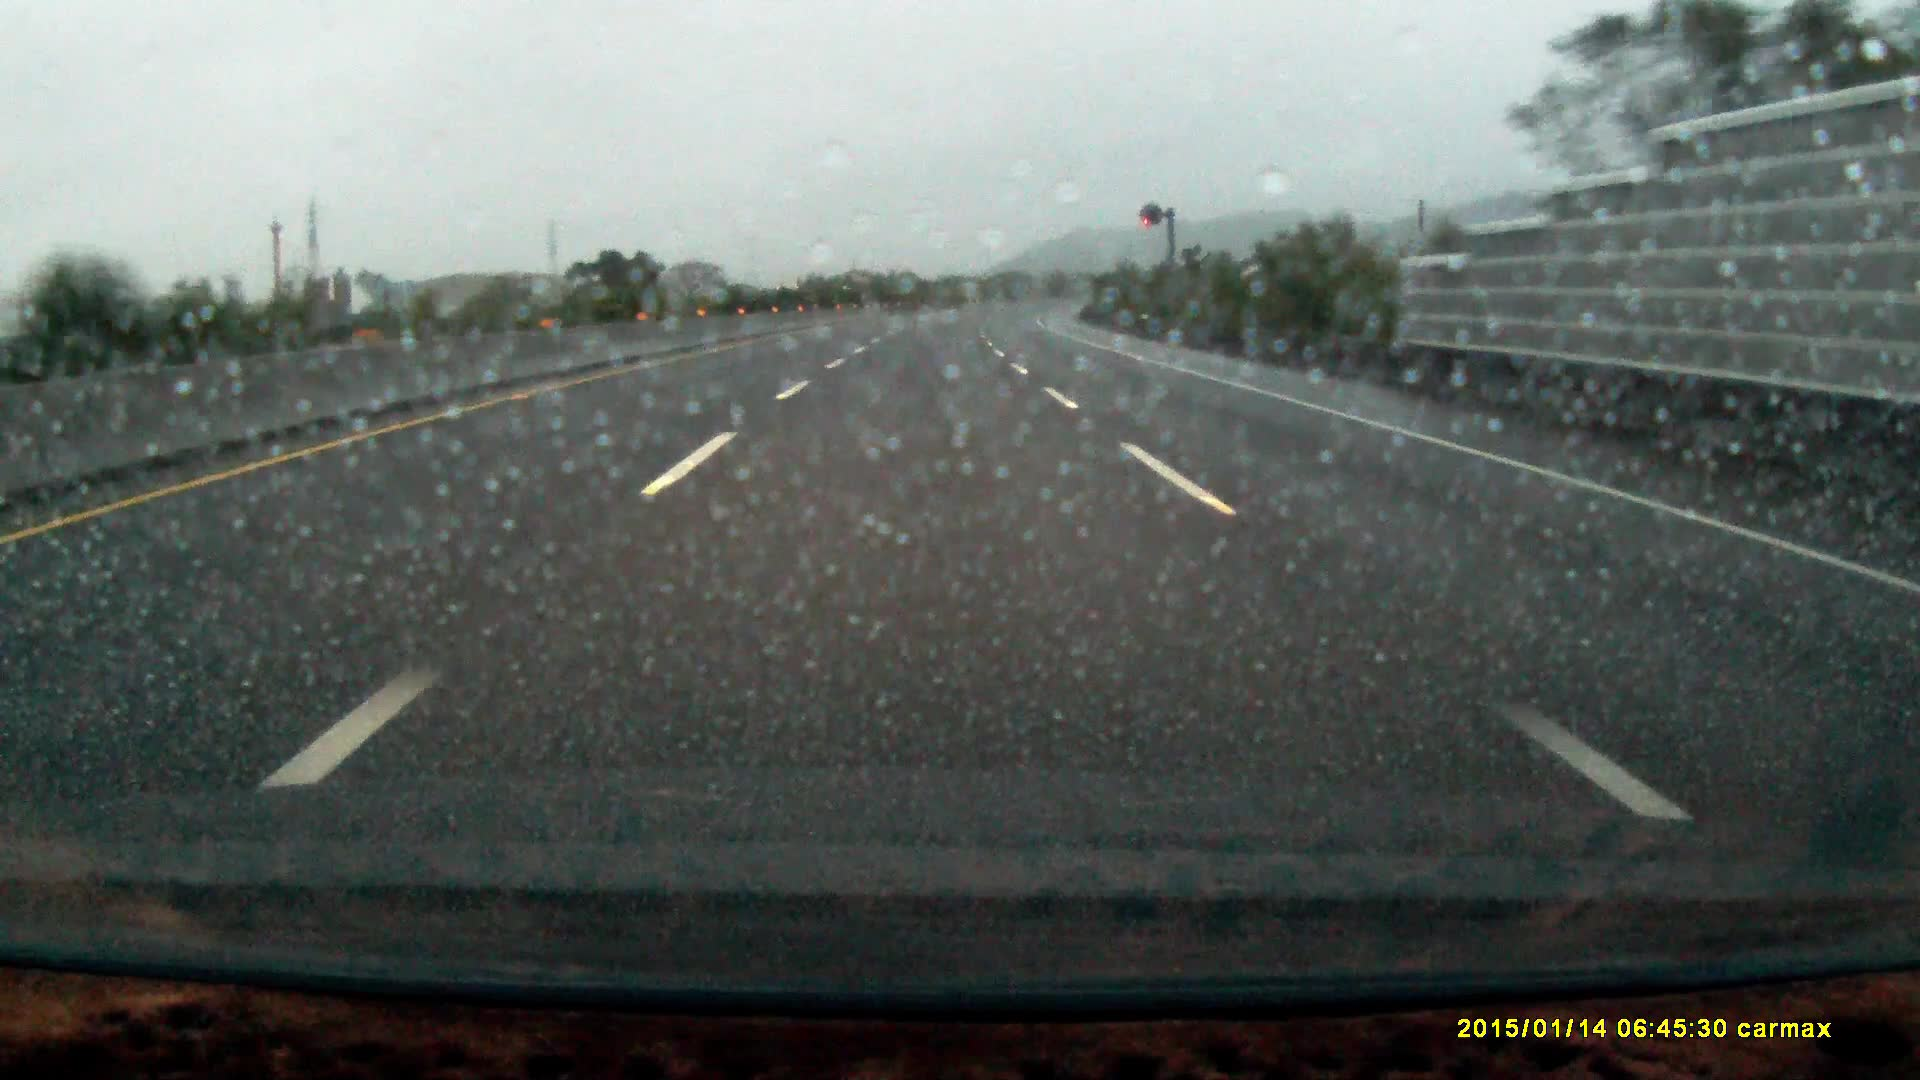vehicle: (833, 269, 877, 309)
